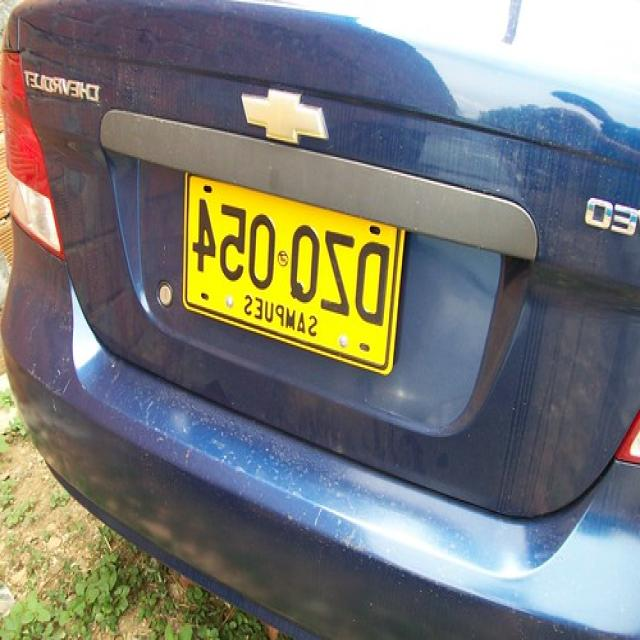placas: (183, 186, 400, 336)
